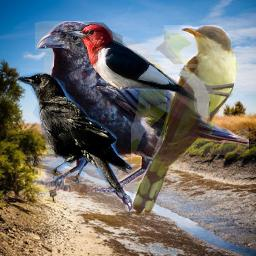Crow: (32, 21, 249, 212), (11, 71, 134, 195)
Cuckoo: (131, 25, 237, 218)
Woodpecker: (61, 22, 197, 104)
